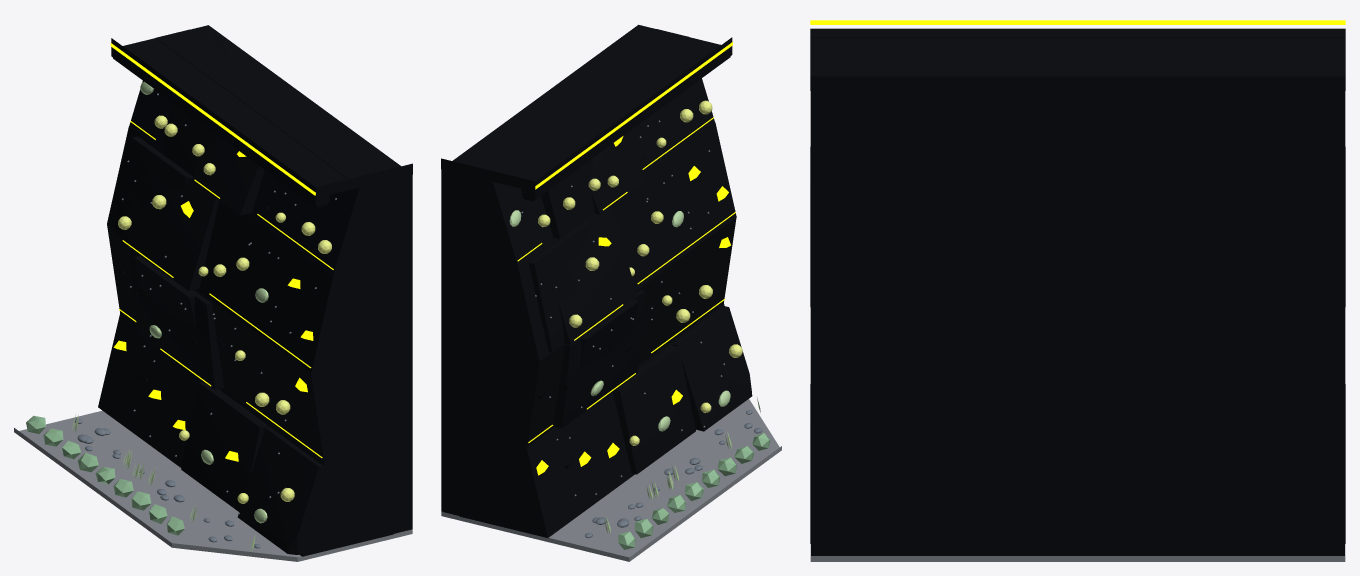
File: tt_plinth_skirt_mitre_sw.glb
3 views of the same model, side by side, from view 1: azimuth 30°, elevation 25°; view 2: azimuth 150°, elevation 25°; view 3: azimuth 270°, elevation 25° (orthographic). The views are drawn at different scales.
Parts seen in each view (by area): view 1: Course2_Facets, Course0_Facets, Course1_Facets, Course3_Facets, Cap_Course, Base_Mat, Skirt_Core, Moss_Edge, Tennis_Ball_Holds, Jug_Holds, Seam_Tape, Cap_Court_Line (+2 smaller); view 2: Course0_Facets, Course2_Facets, Course1_Facets, Course3_Facets, Cap_Course, Base_Mat, Skirt_Core, Moss_Edge, Tennis_Ball_Holds, Jug_Holds, Seam_Tape, Cap_Court_Line (+2 smaller); view 3: Skirt_Core, Cap_Course, Course3_Facets, Base_Mat, Cap_Court_Line.
Part boxes in pixels (x1,y1,x2,y2): Course2_Facets: [107, 126, 393, 373]; Course0_Facets: [98, 313, 393, 556]; Course1_Facets: [107, 224, 393, 462]; Course3_Facets: [129, 29, 393, 275]; Cap_Course: [111, 25, 412, 205]; Base_Mat: [14, 410, 412, 561]; Skirt_Core: [393, 175, 412, 533]; Moss_Edge: [26, 415, 184, 535]; Tennis_Ball_Holds: [118, 115, 331, 503]; Jug_Holds: [113, 151, 313, 461]; Seam_Tape: [119, 121, 333, 457]; Cap_Court_Line: [110, 43, 315, 195]; Course0_Facets: [459, 303, 752, 537]; Course2_Facets: [459, 122, 736, 361]; Course1_Facets: [459, 217, 736, 447]; Course3_Facets: [459, 29, 714, 266]; Cap_Course: [441, 24, 732, 198]; Base_Mat: [441, 399, 781, 561]; Skirt_Core: [441, 169, 459, 515]; Moss_Edge: [618, 433, 770, 549]; Tennis_Ball_Holds: [538, 100, 742, 445]; Jug_Holds: [536, 136, 730, 475]; Seam_Tape: [517, 117, 735, 442]; Cap_Court_Line: [535, 42, 732, 189]; Skirt_Core: [811, 90, 1344, 555]; Cap_Course: [810, 28, 1345, 90]; Course3_Facets: [810, 56, 1345, 185]; Base_Mat: [810, 544, 1345, 561]; Cap_Court_Line: [810, 20, 1345, 24].
Size of what is drawn, in the model's own units: 2.2 by 4 by 4.
Materials: 8 (3 with a texture image).
